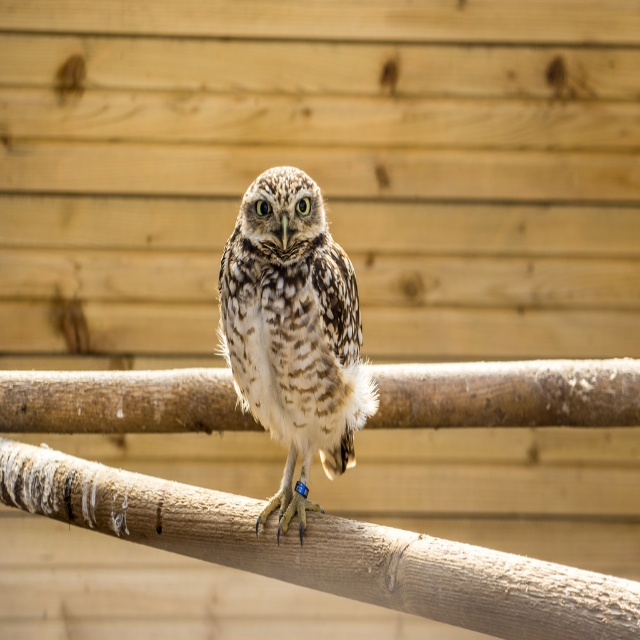Owl: (220, 170, 374, 540)
